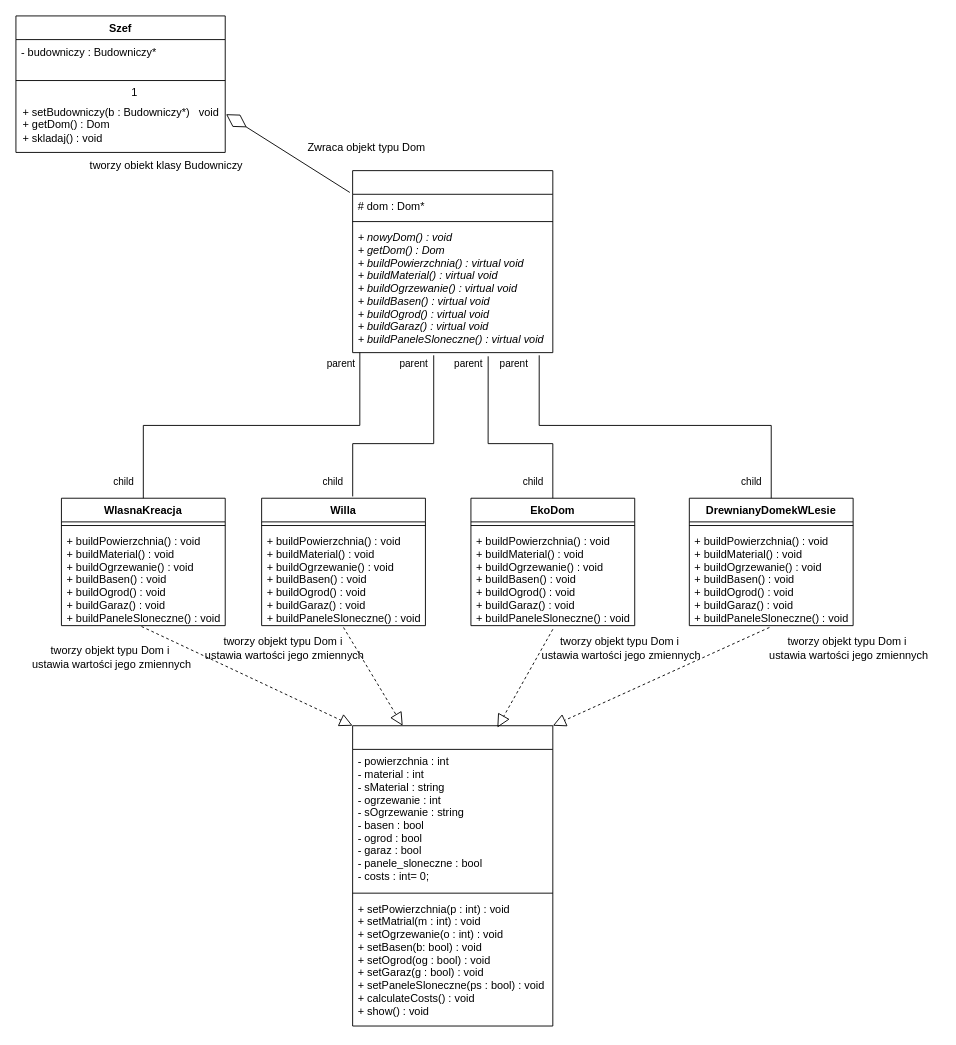
Image size: 956x1045. Some labels were removed from this diagram. Here are the shapes that lost their labels. From the top down, the box of each, then its label:
(352, 170, 553, 353): Budowniczy
(352, 725, 553, 1026): Dom
